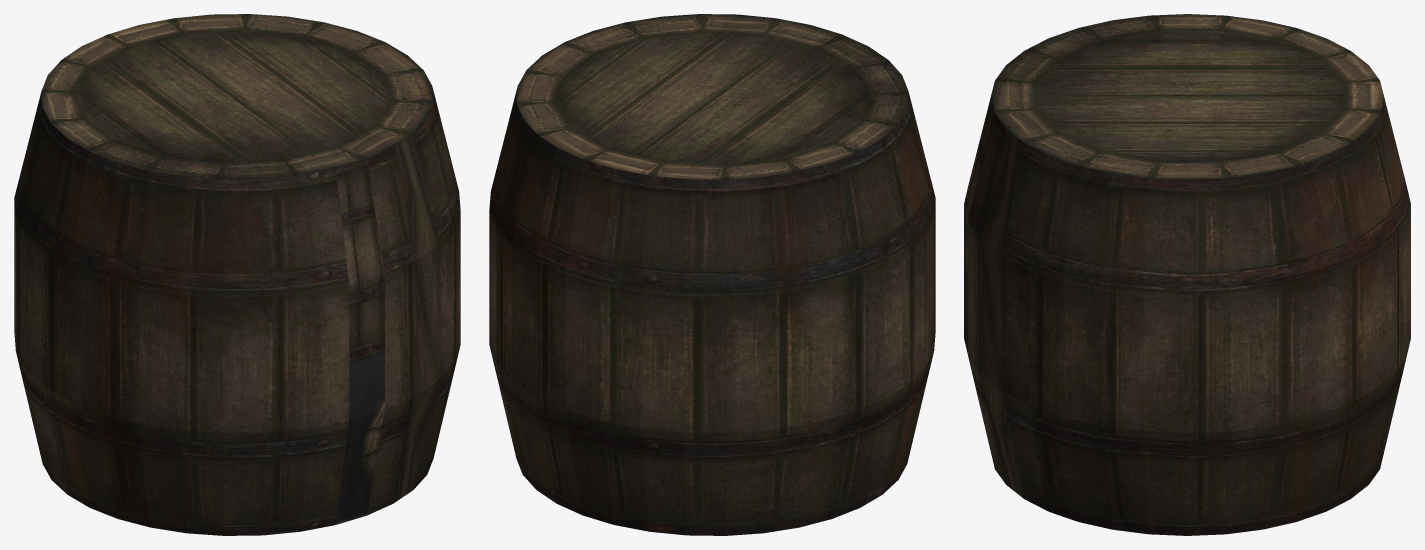
Rendered from barril v1.fbx.
The picture shows the model from 3 angles, left to right: view 1: azimuth 30°, elevation 25°; view 2: azimuth 150°, elevation 25°; view 3: azimuth 270°, elevation 25°; orthographic projection.
Visible parts, largest first — view 1: Cylinder; view 2: Cylinder; view 3: Cylinder.
Part boxes in pixels (box(x1,y1,x2,y2)): Cylinder: box(14, 14, 460, 535); Cylinder: box(489, 14, 935, 535); Cylinder: box(964, 14, 1410, 535).
Bounding box in the file's own units: 258 × 227 × 258.
1 material, 1 textured.
